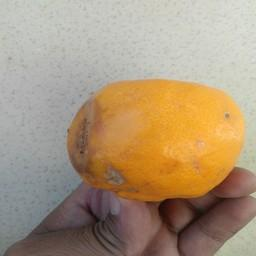Bad_orange: (59, 76, 248, 204)
